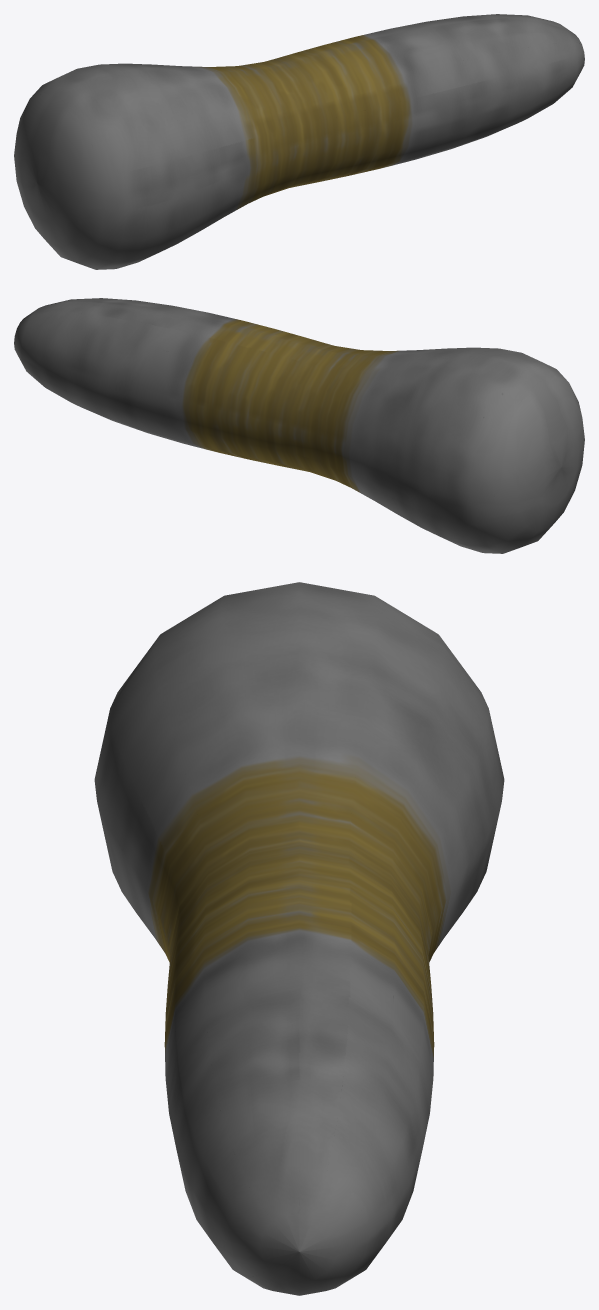
The model's file is pestle.fbx.
The picture shows the model from 3 angles, top to bottom: view 1: azimuth 30°, elevation 25°; view 2: azimuth 150°, elevation 25°; view 3: azimuth 270°, elevation 25°; orthographic projection. The views are drawn at different scales.
Visible parts, largest first — view 1: Pestle; view 2: Pestle; view 3: Pestle.
Part boxes in pixels (bbox=[...]): Pestle: bbox=[14, 14, 584, 269]; Pestle: bbox=[14, 298, 584, 553]; Pestle: bbox=[94, 582, 504, 1295].
Size of the model in its own units: 223 by 72.83 by 72.83.
1 material, 1 textured.
